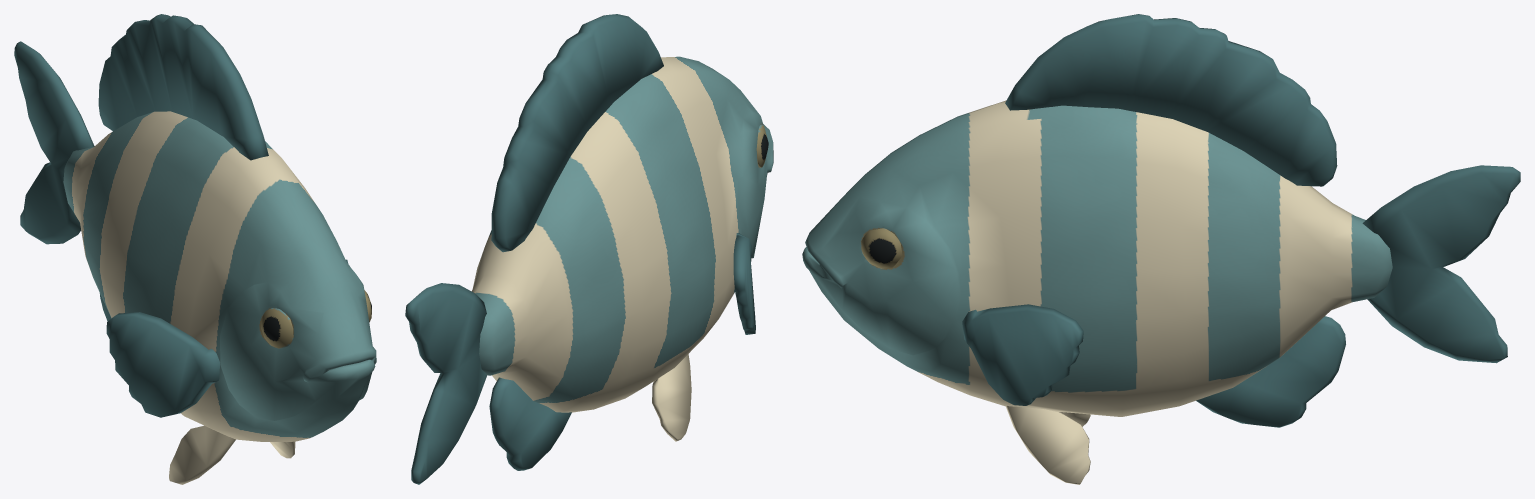
The model's file is fish_round.fbx.
3 renders of one model, left to right at view 1: azimuth 30°, elevation 25°; view 2: azimuth 150°, elevation 25°; view 3: azimuth 270°, elevation 25°, orthographic. The views are drawn at different scales.
Visible parts, largest first — view 1: fish_round; view 2: fish_round; view 3: fish_round.
Boxes of the visible parts, box(x1,y1,x2,y2) form: fish_round: box(14, 14, 376, 484); fish_round: box(405, 14, 773, 484); fish_round: box(802, 14, 1520, 484).
Bounding box in the file's own units: 0.123 × 0.2046 × 0.3008.
1 material, 1 textured.
